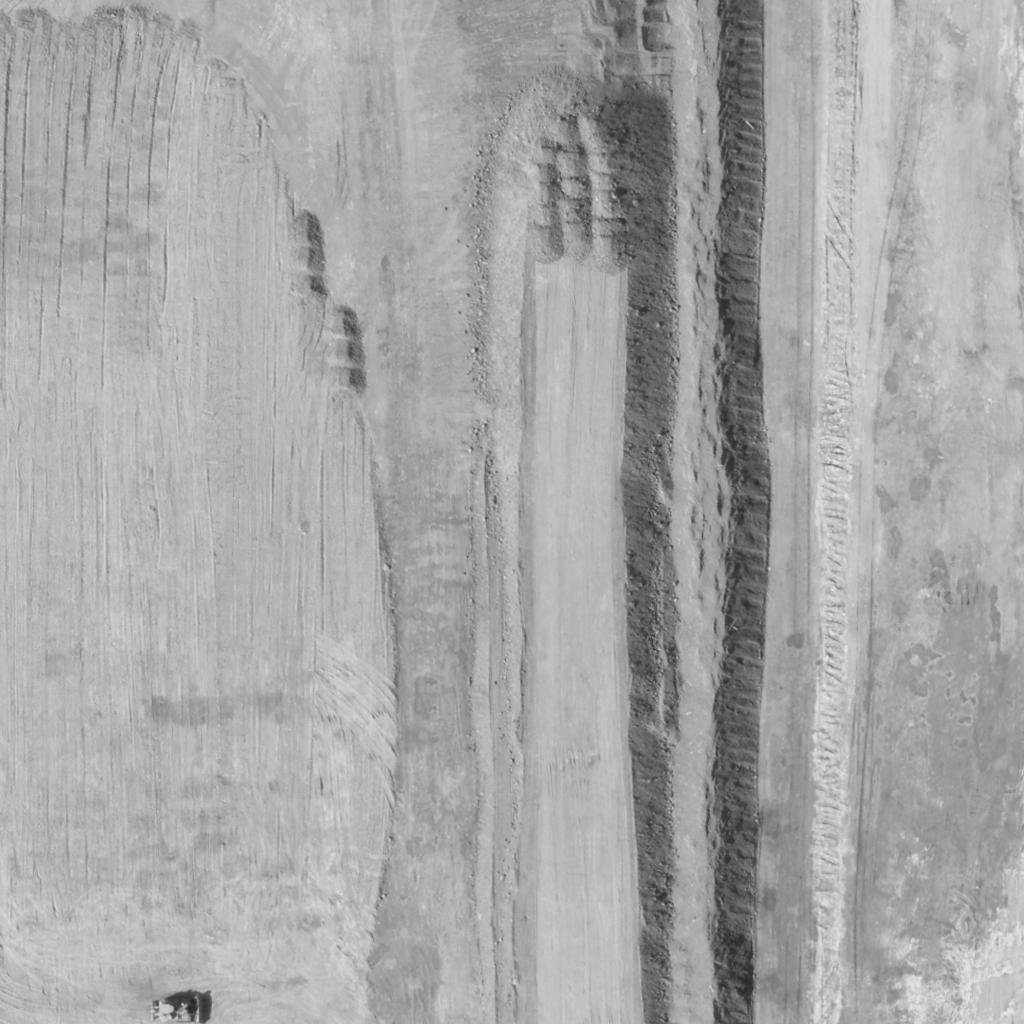vehicle: (150, 995, 202, 1023)
